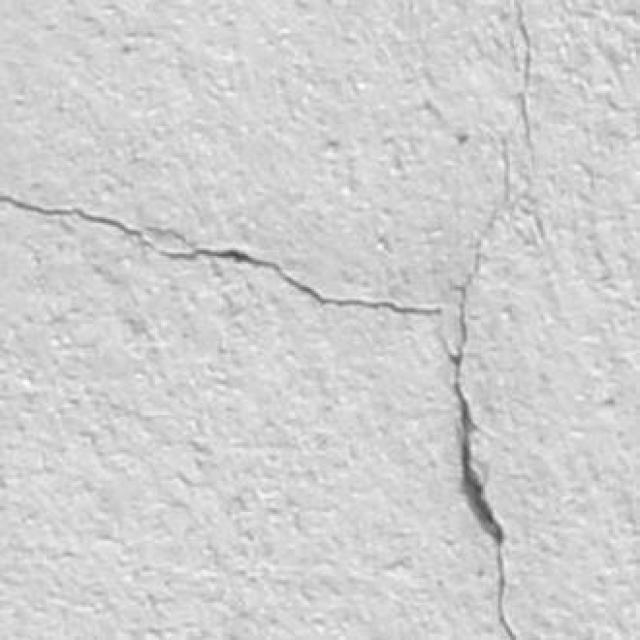crack: (0, 194, 442, 316), (447, 216, 515, 639), (514, 0, 535, 162)
